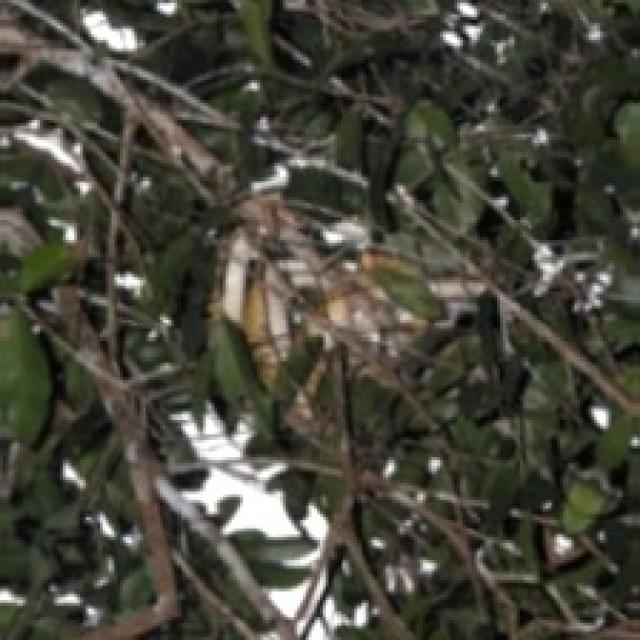red-tailed green ratsnake: (222, 184, 484, 381)
